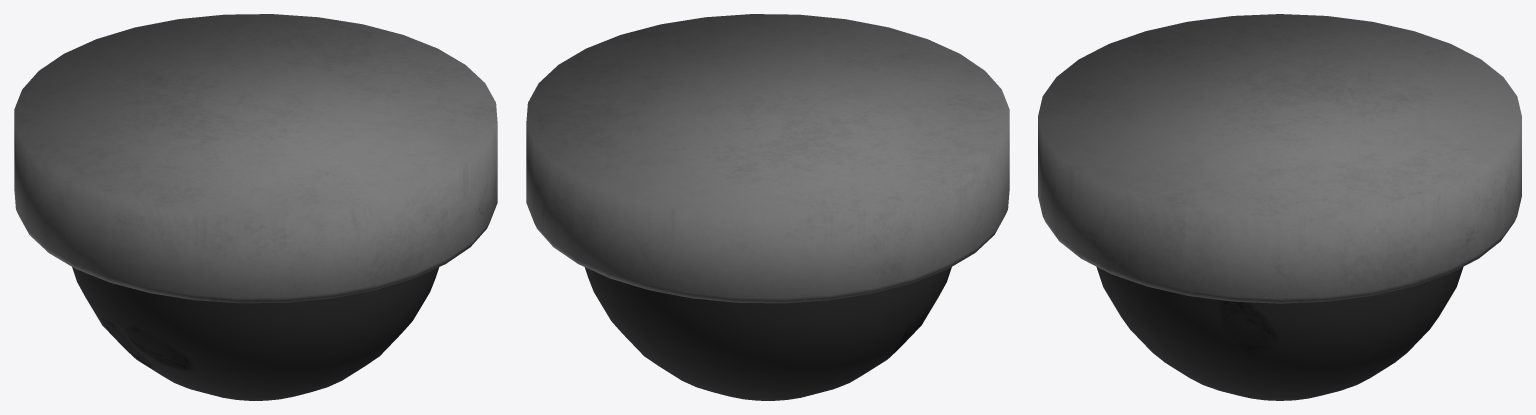
File: SM_Schoolhallway_03.fbx
3 renders of one model, left to right at view 1: azimuth 30°, elevation 25°; view 2: azimuth 150°, elevation 25°; view 3: azimuth 270°, elevation 25°, orthographic.
Visible parts, largest first — view 1: SM_Schoolhallway_03; view 2: SM_Schoolhallway_03; view 3: SM_Schoolhallway_03.
Part boxes in pixels (x1,y1,x2,y2): SM_Schoolhallway_03: [14, 14, 497, 400]; SM_Schoolhallway_03: [526, 14, 1009, 400]; SM_Schoolhallway_03: [1038, 14, 1521, 400].
Bounding box in the file's own units: 9.94 × 9.94 × 6.05.
